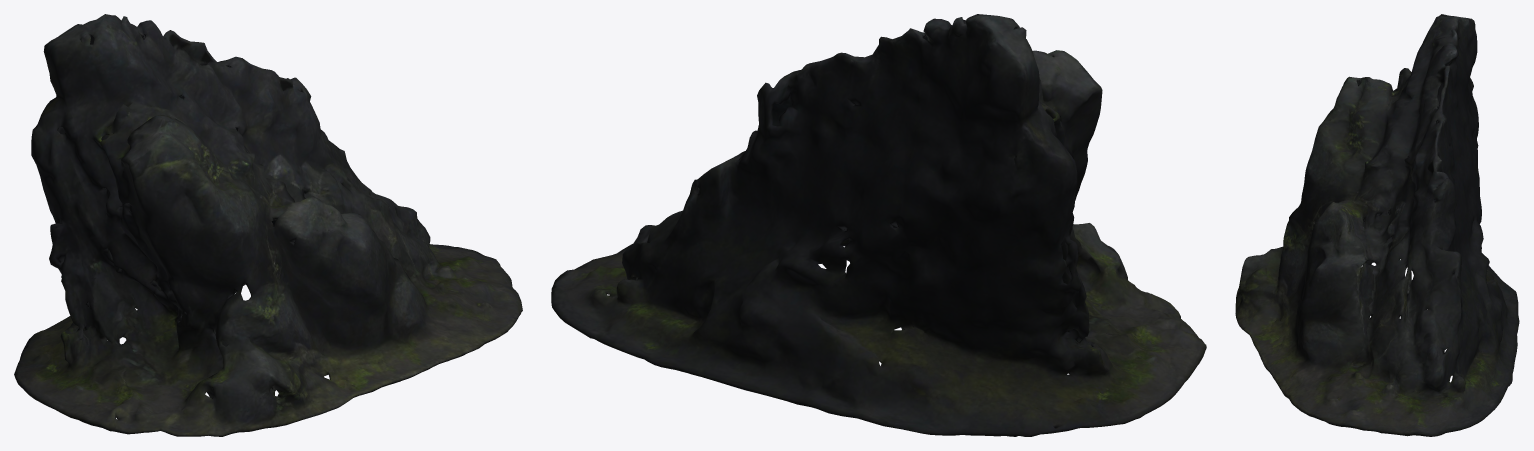
File: ruins_tree.glb
3 renders of one model, left to right at view 1: azimuth 30°, elevation 25°; view 2: azimuth 150°, elevation 25°; view 3: azimuth 270°, elevation 25°, orthographic. The views are drawn at different scales.
Bounding box in the file's own units: 2.01 × 1.29 × 1.22.
1 material, 1 textured.
